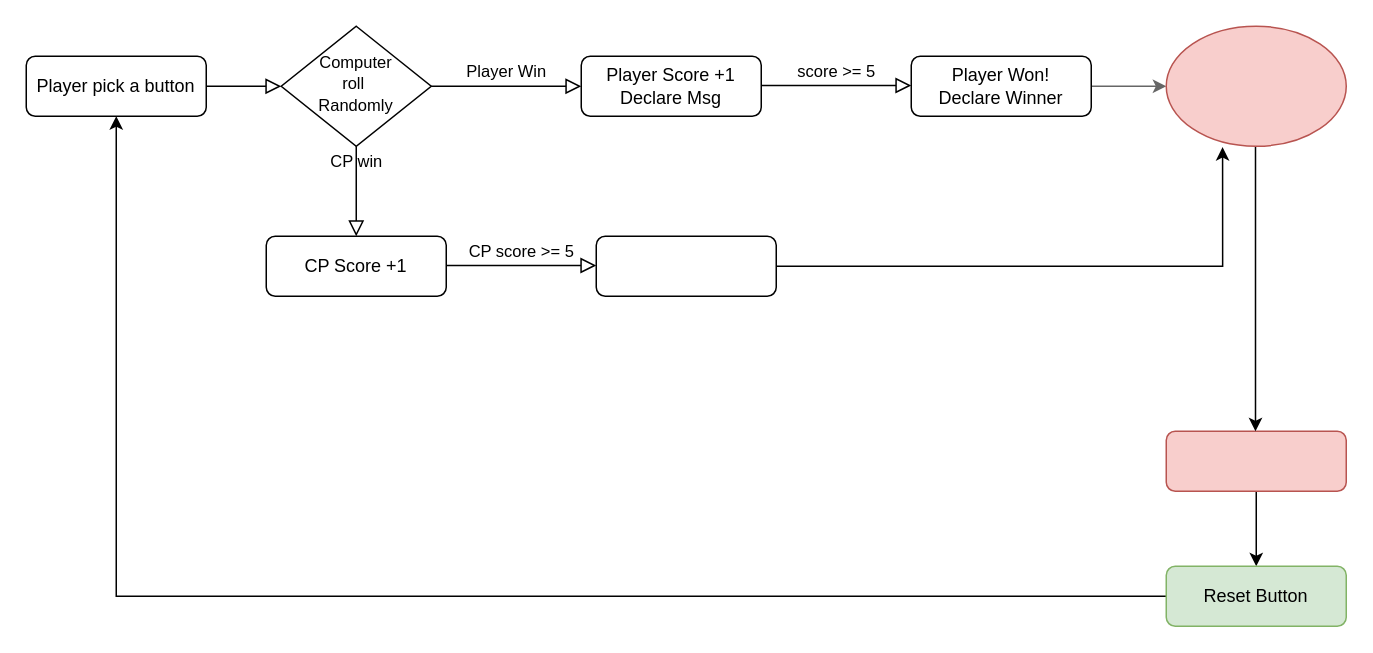
Image size: 1373x653. Some labels were removed from this diagram. The box of each missing label's shape, as (x1, y1, x2, y2) in pixels:
Comp Won! Declare Msg: (595, 235, 776, 296)
Game Stop: (1165, 430, 1346, 491)
Valk Appear: (1165, 25, 1346, 146)
